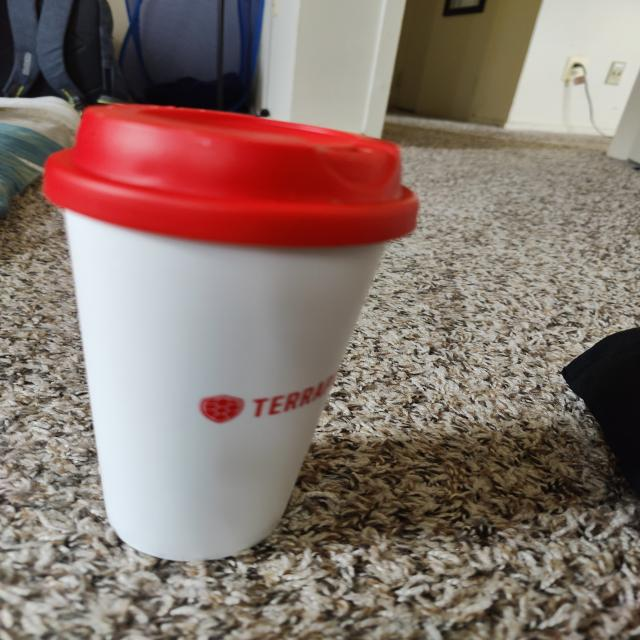mug: (52, 106, 409, 567)
